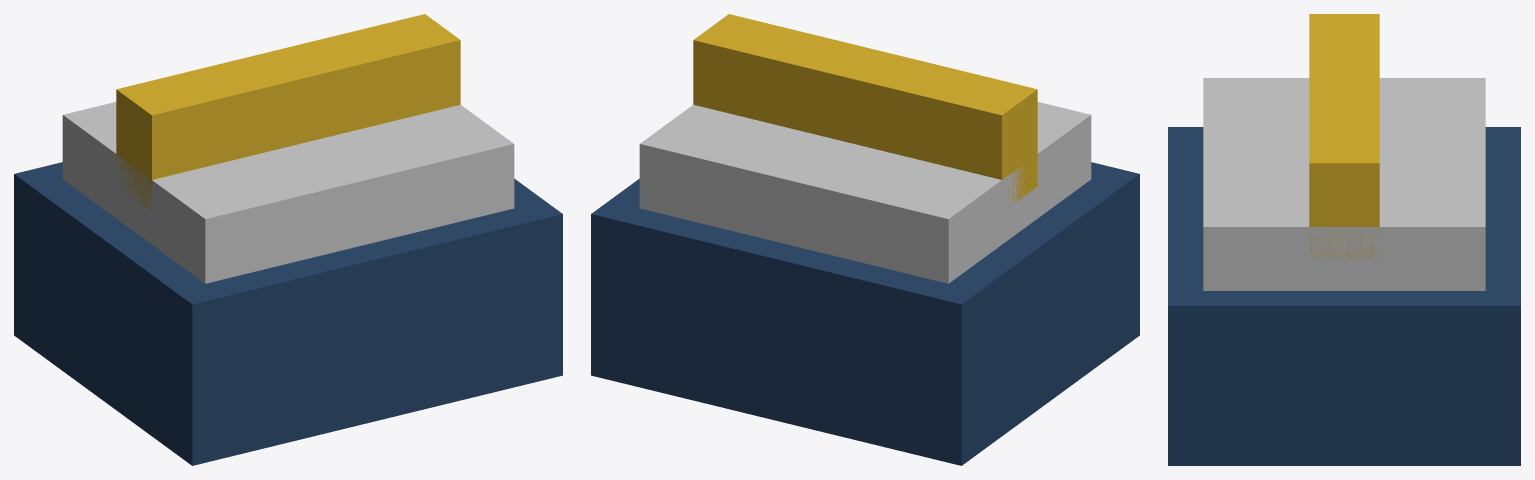
File: mobility_module.obj
3 views of the same model, side by side, from view 1: azimuth 30°, elevation 25°; view 2: azimuth 150°, elevation 25°; view 3: azimuth 270°, elevation 25° (orthographic).
Visible parts, largest first — view 1: mobility_module; view 2: mobility_module; view 3: mobility_module.
Part boxes in pixels (x1=…): mobility_module: x1=14, y1=14, x2=562, y2=465; mobility_module: x1=591, y1=14, x2=1139, y2=465; mobility_module: x1=1168, y1=14, x2=1520, y2=465.
Size of the model in its own units: 0.24 by 0.18 by 0.2.
